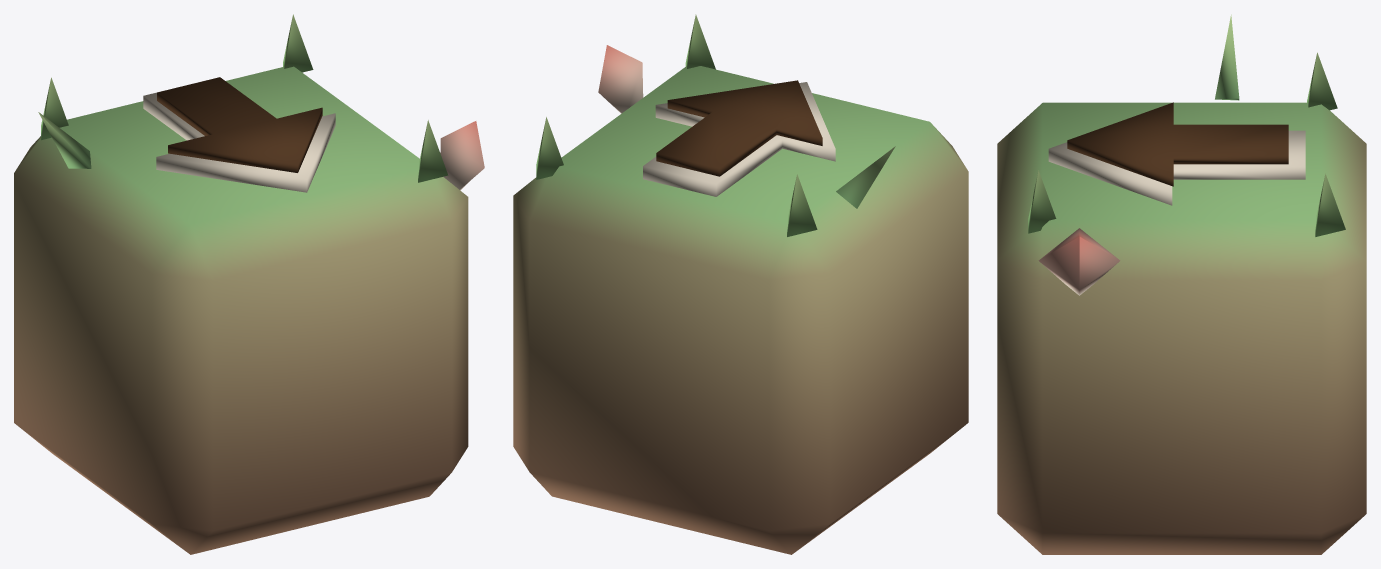
The model's file is toprak_lod2.glb.
3 renders of one model, left to right at view 1: azimuth 30°, elevation 25°; view 2: azimuth 150°, elevation 25°; view 3: azimuth 270°, elevation 25°, orthographic.
Visible parts, largest first — view 1: toprak_lod2; view 2: toprak_lod2; view 3: toprak_lod2.
Boxes of the visible parts, x1,y1,x2,y2 form: toprak_lod2: (14,14,484,554); toprak_lod2: (513,14,968,554); toprak_lod2: (997,14,1366,554).
Size of the model in its own units: 1.05 by 1.06 by 0.9001.
